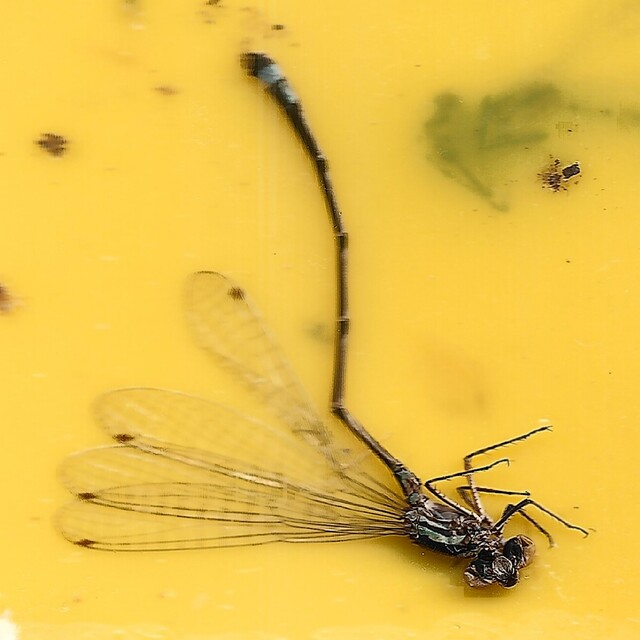Odonata: (54, 51, 586, 589)
